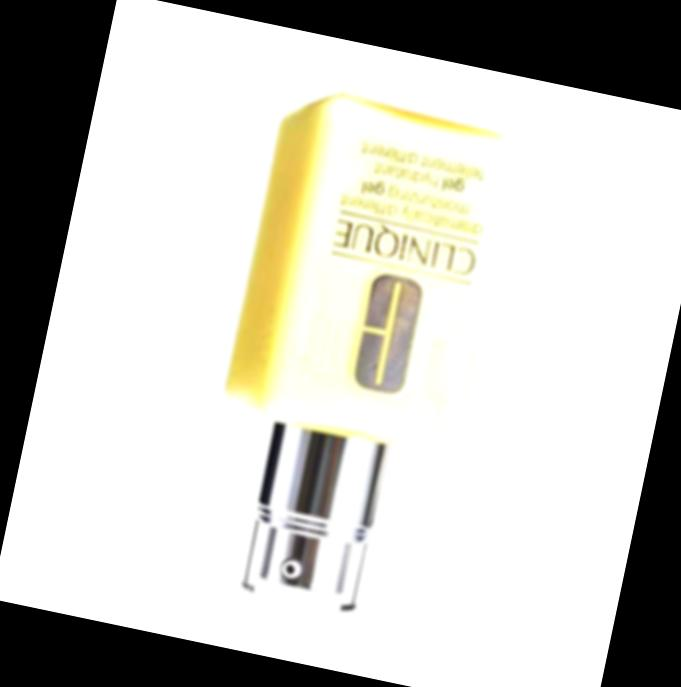cosmetic: (181, 86, 523, 634)
